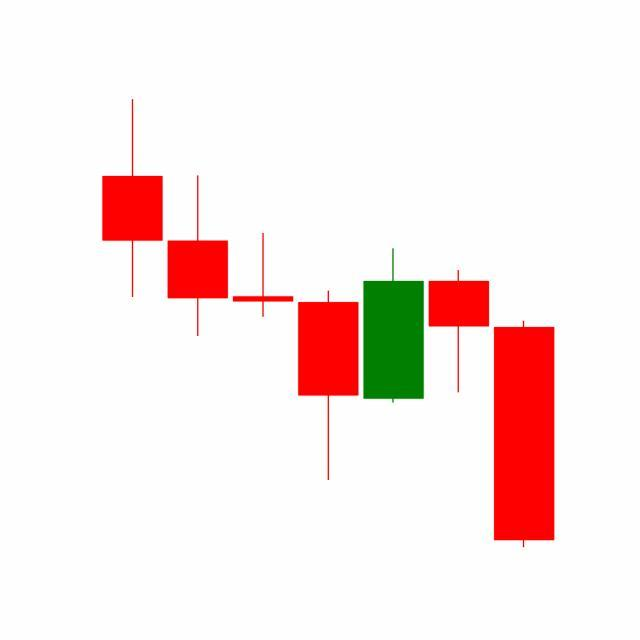Hikkake Pattern: (229, 229, 555, 548)
